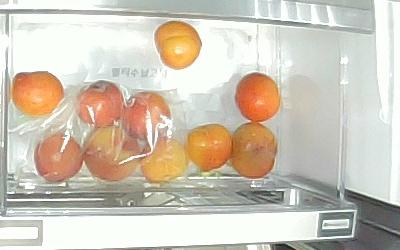prune: (230, 121, 278, 177), (10, 72, 65, 118), (155, 20, 203, 71), (186, 124, 234, 172), (235, 72, 281, 122)
prune_vinyl: (82, 124, 142, 183), (34, 132, 84, 183), (75, 79, 125, 128), (122, 92, 172, 141), (140, 136, 190, 184)
